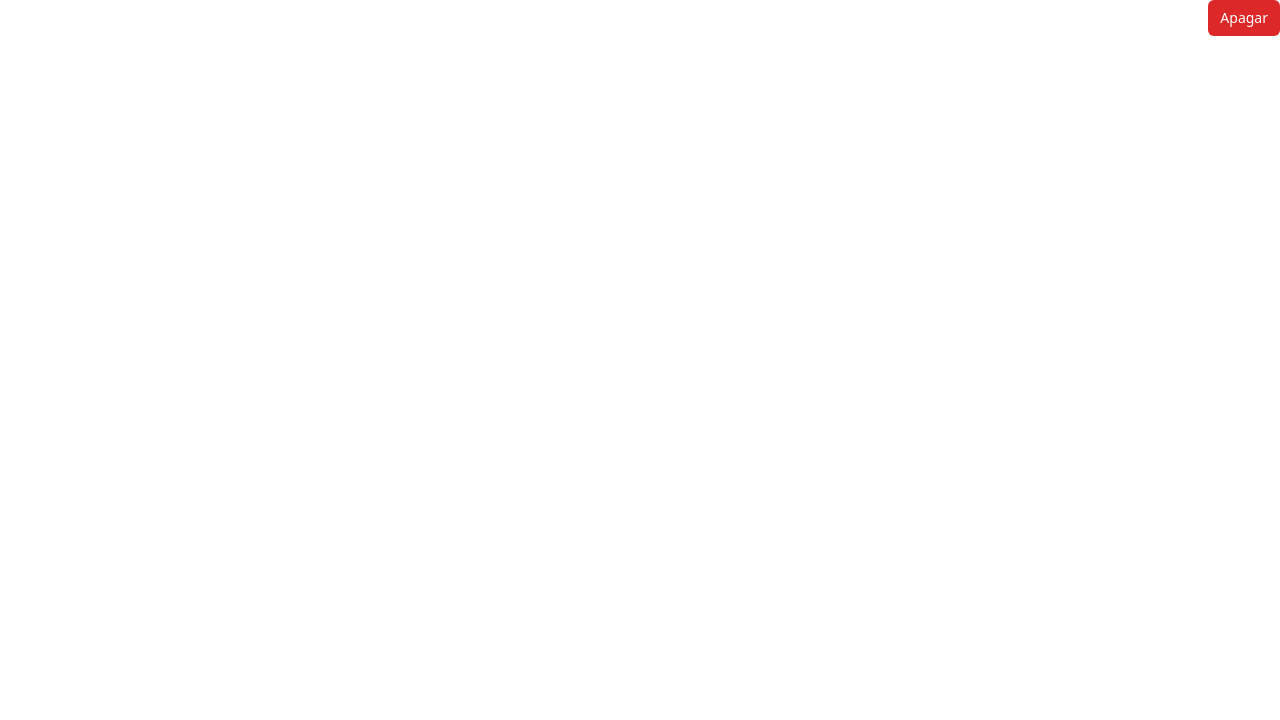
Scenario: OperationalActionBar › destructive action opens confirm dialog
The image size is (1280, 720).
Later steps or results of the test are not shown.
Click the button "Apagar". click: (1244, 18)
box: x1=1208 y1=0 x2=1279 y2=36
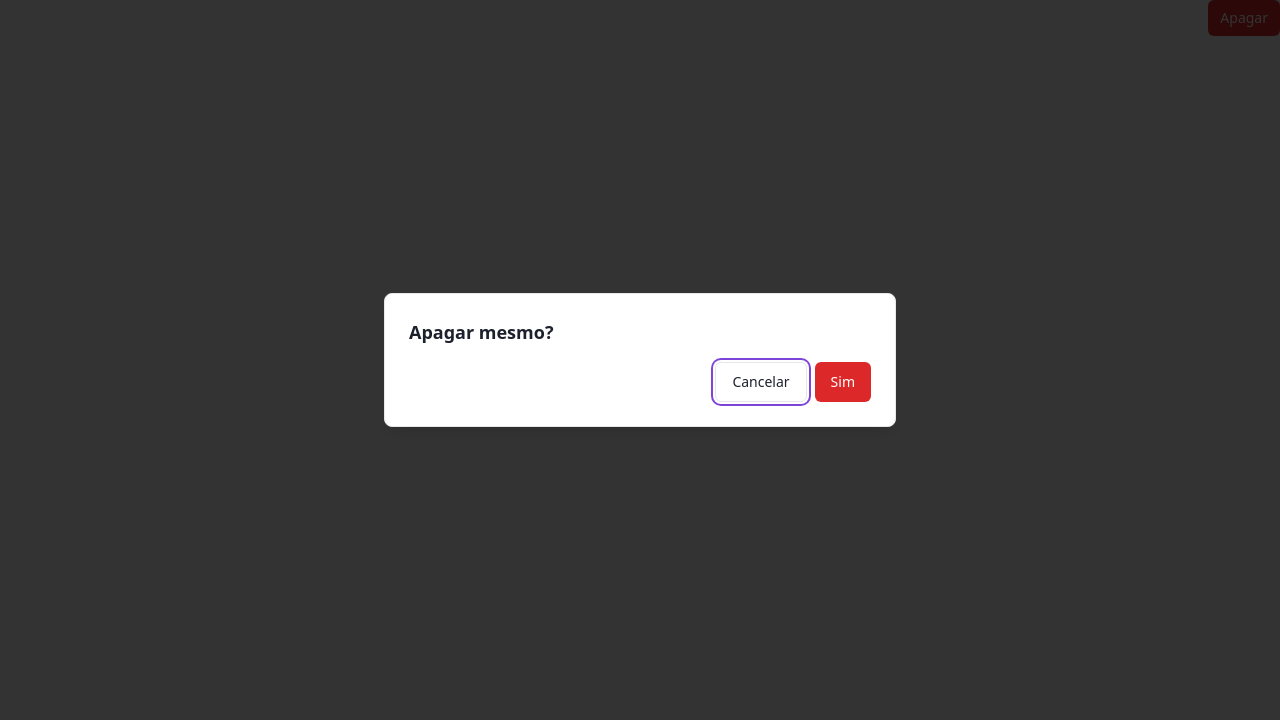
Now the heading "Apagar mesmo?" is shown, box x1=409 y1=320 x2=554 y2=344
